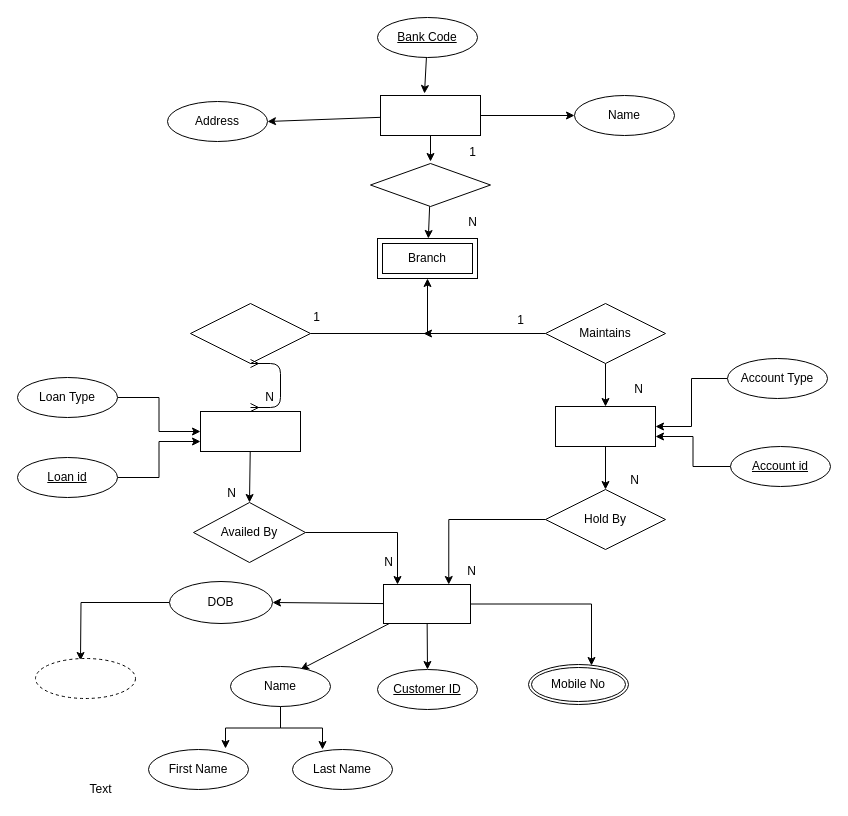
This 848x816 diagram has some shape labels left out. Each missing label, with the centre of its shape:
Account: the point at 605,426
Age: the point at 85,678
Bank: the point at 430,115
Customer: the point at 426,604
has: the point at 430,184
Loan: the point at 250,431
Offeres: the point at 250,333
